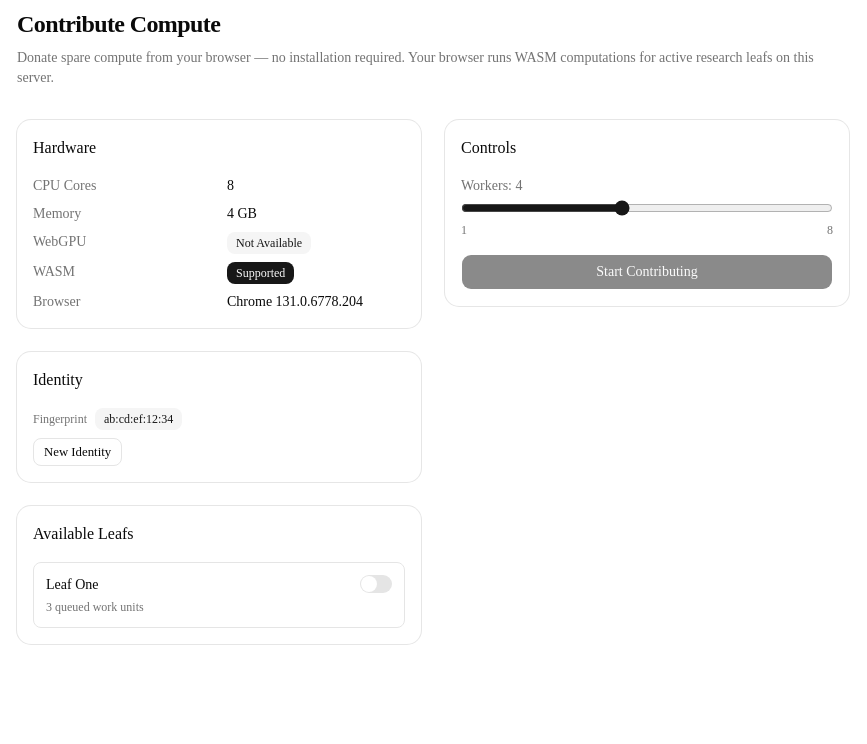
Test: ContributePage proof-of-work wiring › reaches running through the register flow when no solve is required
Step 1. Click the switch named "Enable Leaf One" → point(376, 584), box x1=360 y1=575 x2=392 y2=593
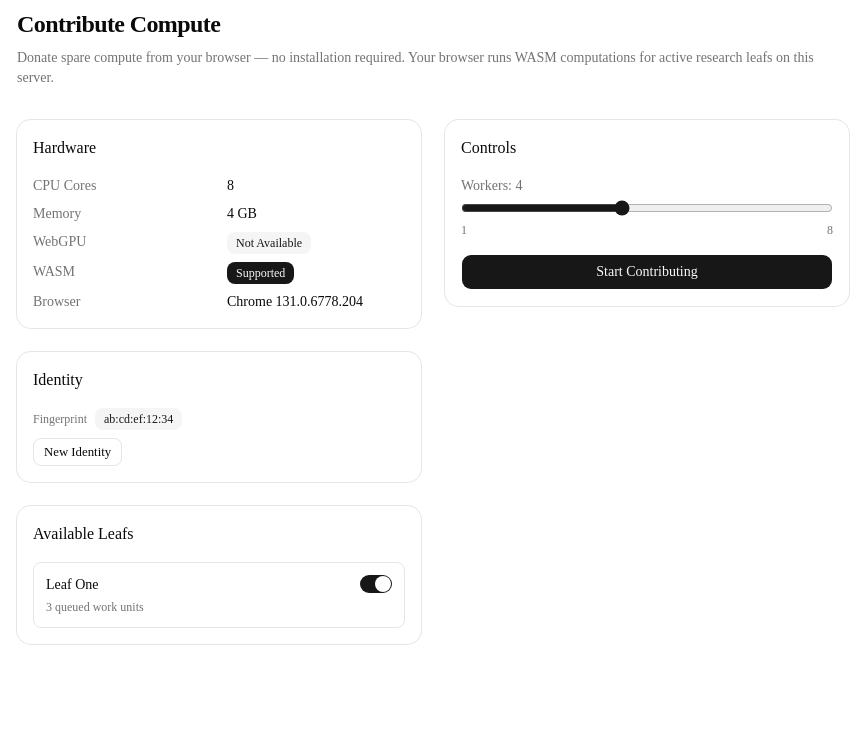
Check: the button "Start Contributing" is enabled
Step 2. Click the button "Start Contributing" → point(647, 272), box x1=461 y1=254 x2=833 y2=290
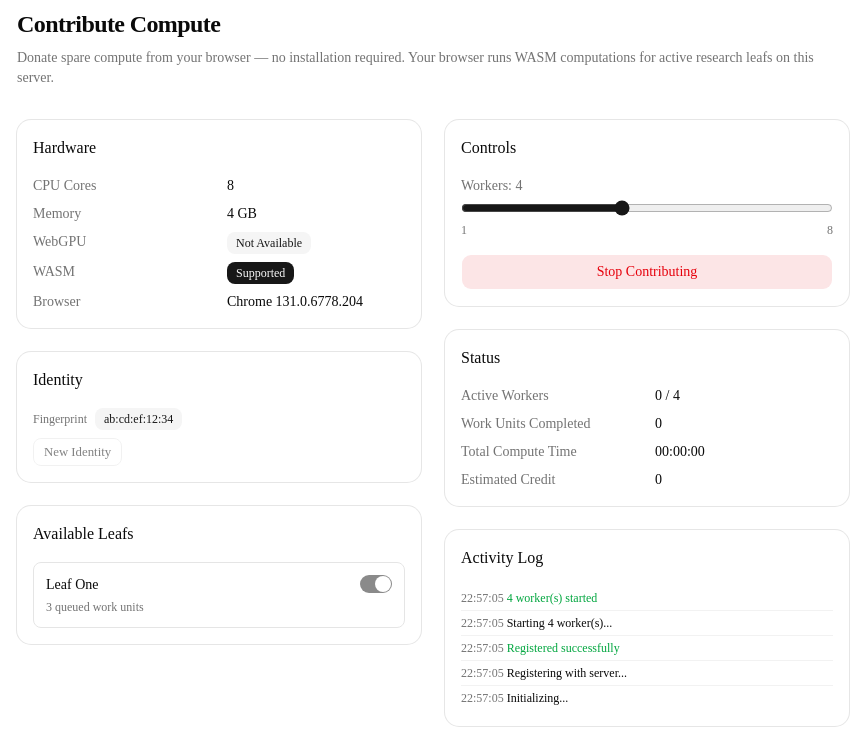
Check: the button "Stop Contributing" is shown, box x1=461 y1=254 x2=833 y2=290
Check: the text "Registered successfully" is shown, box x1=507 y1=641 x2=620 y2=655
